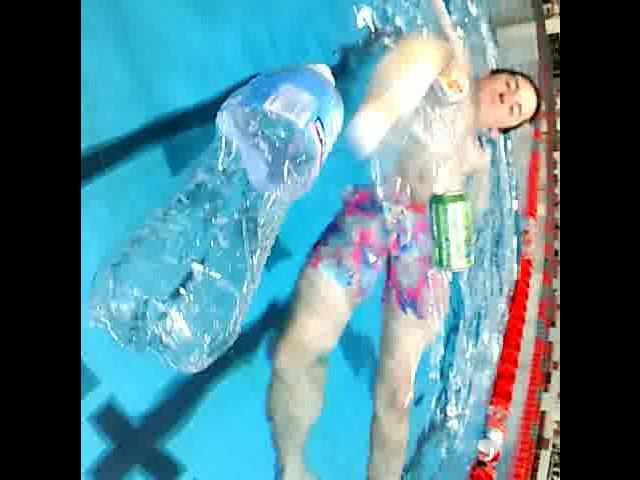Bottle: (81, 53, 351, 375)
Can: (422, 186, 479, 284)
